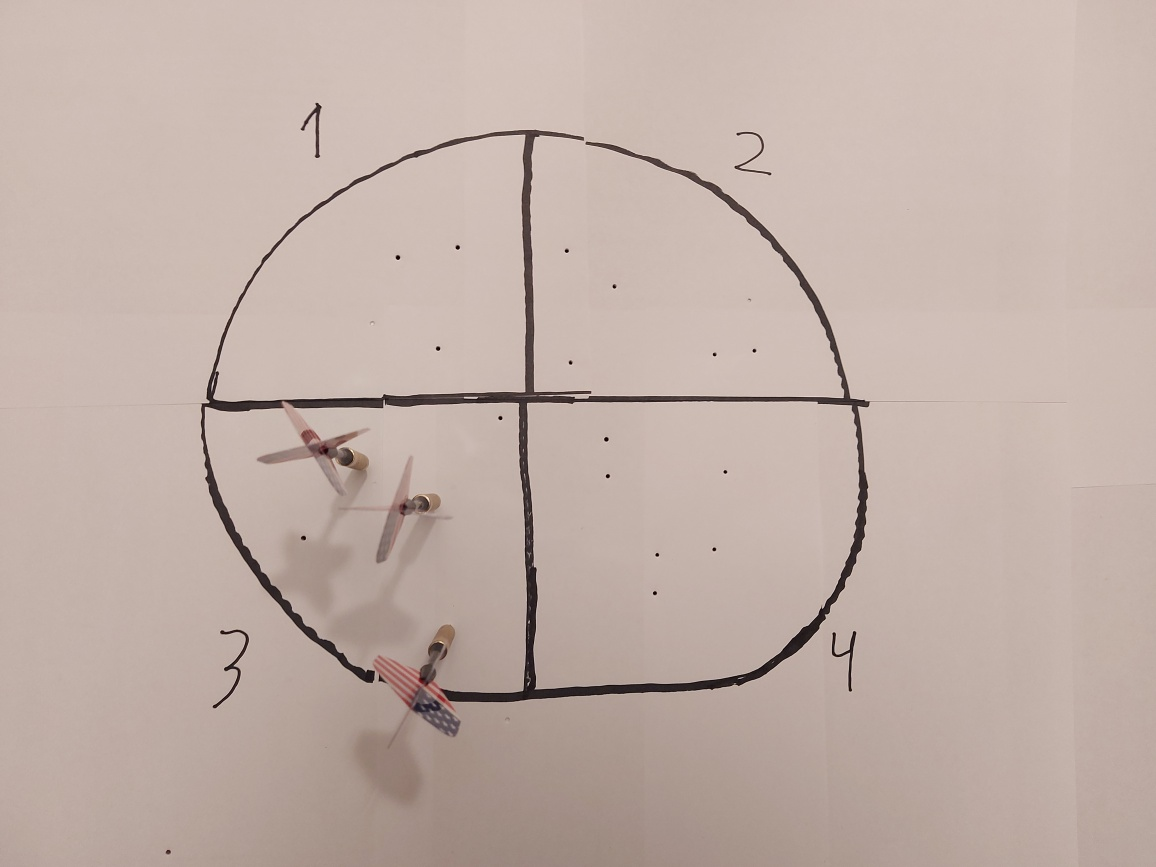Dart: (366, 617, 477, 754), (247, 392, 378, 504), (342, 453, 453, 567)
